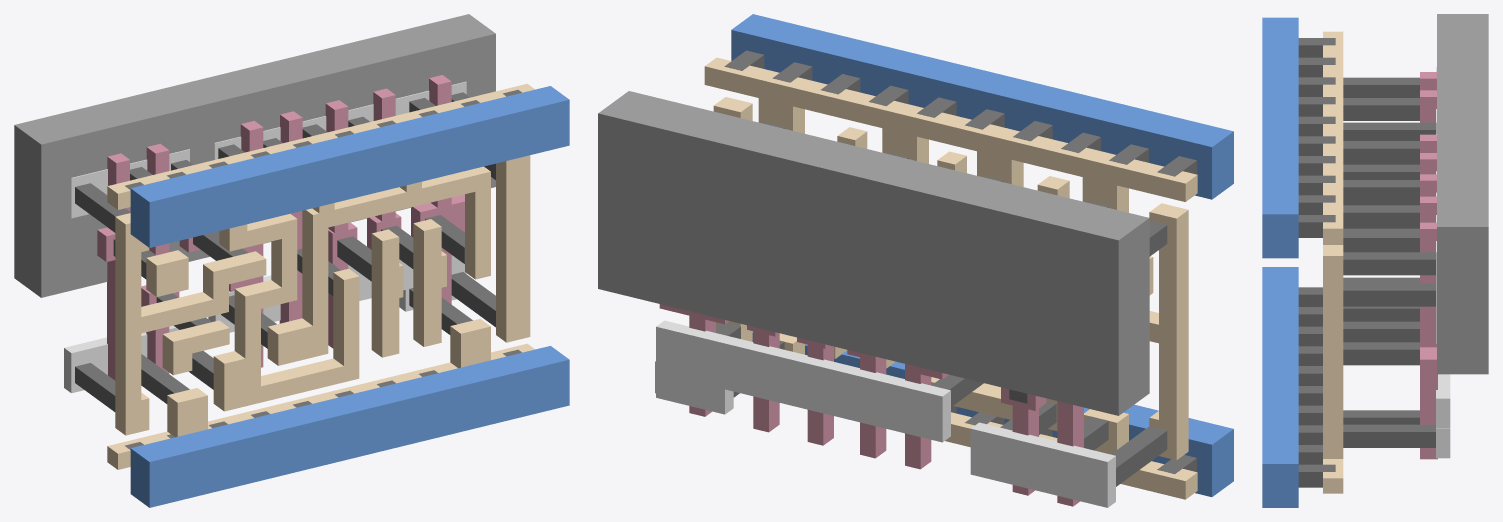
Rendered from sky130_fd_sc_hd__and4bb_1.gds.gltf.
3 views of the same model, side by side, from view 1: azimuth 30°, elevation 25°; view 2: azimuth 150°, elevation 25°; view 3: azimuth 270°, elevation 25° (orthographic). The views are drawn at different scales.
Parts seen in each view (by area): view 1: sky130_fd_sc_hd__and4bb_1_li1, sky130_fd_sc_hd__and4bb_1_met1, sky130_fd_sc_hd__and4bb_1_nwell, sky130_fd_sc_hd__and4bb_1_licon, sky130_fd_sc_hd__and4bb_1_poly, sky130_fd_sc_hd__and4bb_1_diff, sky130_fd_sc_hd__and4bb_1_mcon; view 2: sky130_fd_sc_hd__and4bb_1_nwell, sky130_fd_sc_hd__and4bb_1_li1, sky130_fd_sc_hd__and4bb_1_met1, sky130_fd_sc_hd__and4bb_1_diff, sky130_fd_sc_hd__and4bb_1_poly, sky130_fd_sc_hd__and4bb_1_mcon, sky130_fd_sc_hd__and4bb_1_licon; view 3: sky130_fd_sc_hd__and4bb_1_licon, sky130_fd_sc_hd__and4bb_1_nwell, sky130_fd_sc_hd__and4bb_1_met1, sky130_fd_sc_hd__and4bb_1_mcon, sky130_fd_sc_hd__and4bb_1_li1, sky130_fd_sc_hd__and4bb_1_poly, sky130_fd_sc_hd__and4bb_1_diff.
Part boxes in pixels (x1,y1,x2,y2): sky130_fd_sc_hd__and4bb_1_li1: (107, 83, 534, 469); sky130_fd_sc_hd__and4bb_1_met1: (130, 86, 569, 507); sky130_fd_sc_hd__and4bb_1_nwell: (14, 14, 495, 297); sky130_fd_sc_hd__and4bb_1_licon: (75, 92, 495, 411); sky130_fd_sc_hd__and4bb_1_poly: (97, 75, 464, 380); sky130_fd_sc_hd__and4bb_1_diff: (64, 81, 466, 393); sky130_fd_sc_hd__and4bb_1_mcon: (125, 90, 521, 449); sky130_fd_sc_hd__and4bb_1_nwell: (598, 91, 1149, 415); sky130_fd_sc_hd__and4bb_1_li1: (704, 57, 1197, 499); sky130_fd_sc_hd__and4bb_1_met1: (731, 14, 1233, 496); sky130_fd_sc_hd__and4bb_1_diff: (655, 320, 1115, 507); sky130_fd_sc_hd__and4bb_1_poly: (659, 304, 1083, 506); sky130_fd_sc_hd__and4bb_1_mcon: (724, 50, 1196, 473); sky130_fd_sc_hd__and4bb_1_licon: (716, 123, 1167, 486); sky130_fd_sc_hd__and4bb_1_licon: (1343, 77, 1435, 447); sky130_fd_sc_hd__and4bb_1_nwell: (1437, 14, 1488, 374); sky130_fd_sc_hd__and4bb_1_met1: (1262, 17, 1298, 507); sky130_fd_sc_hd__and4bb_1_mcon: (1298, 38, 1335, 487); sky130_fd_sc_hd__and4bb_1_li1: (1323, 31, 1343, 493); sky130_fd_sc_hd__and4bb_1_poly: (1420, 72, 1437, 459); sky130_fd_sc_hd__and4bb_1_diff: (1436, 67, 1450, 458).
Size of the model in its own units: 4.98 by 3.2 by 2.24.
